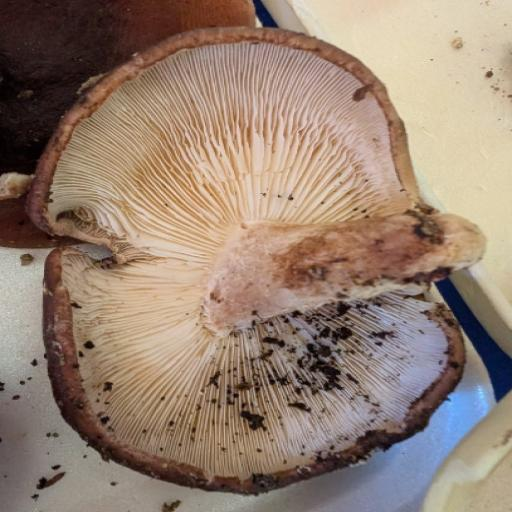Shiitake Mushroom: (50, 31, 460, 486)
